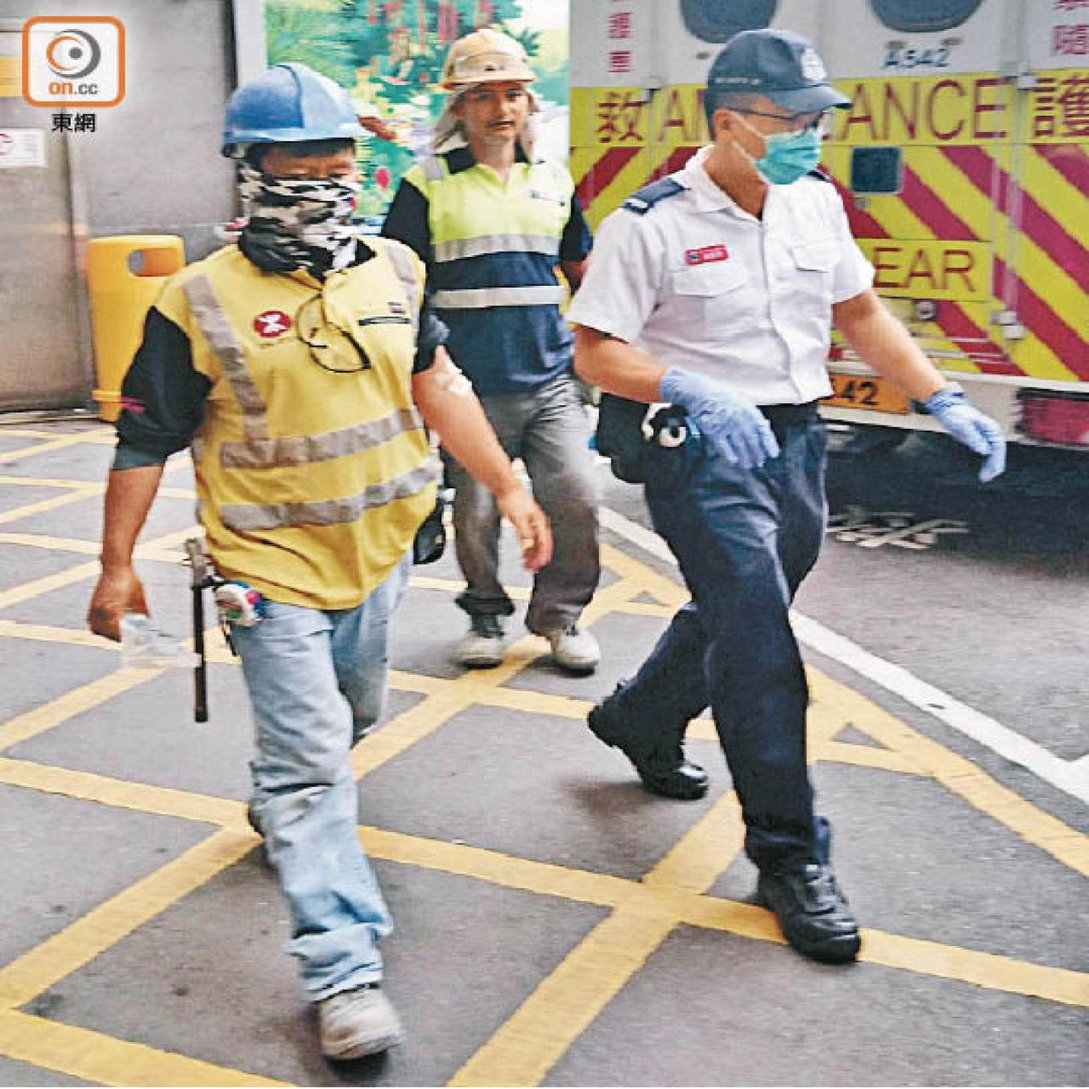NO_Safety_Vest: (170, 238, 415, 574), (622, 186, 830, 396), (402, 162, 569, 372)
Person: (77, 59, 553, 1047), (564, 31, 1003, 982), (356, 18, 628, 675)
